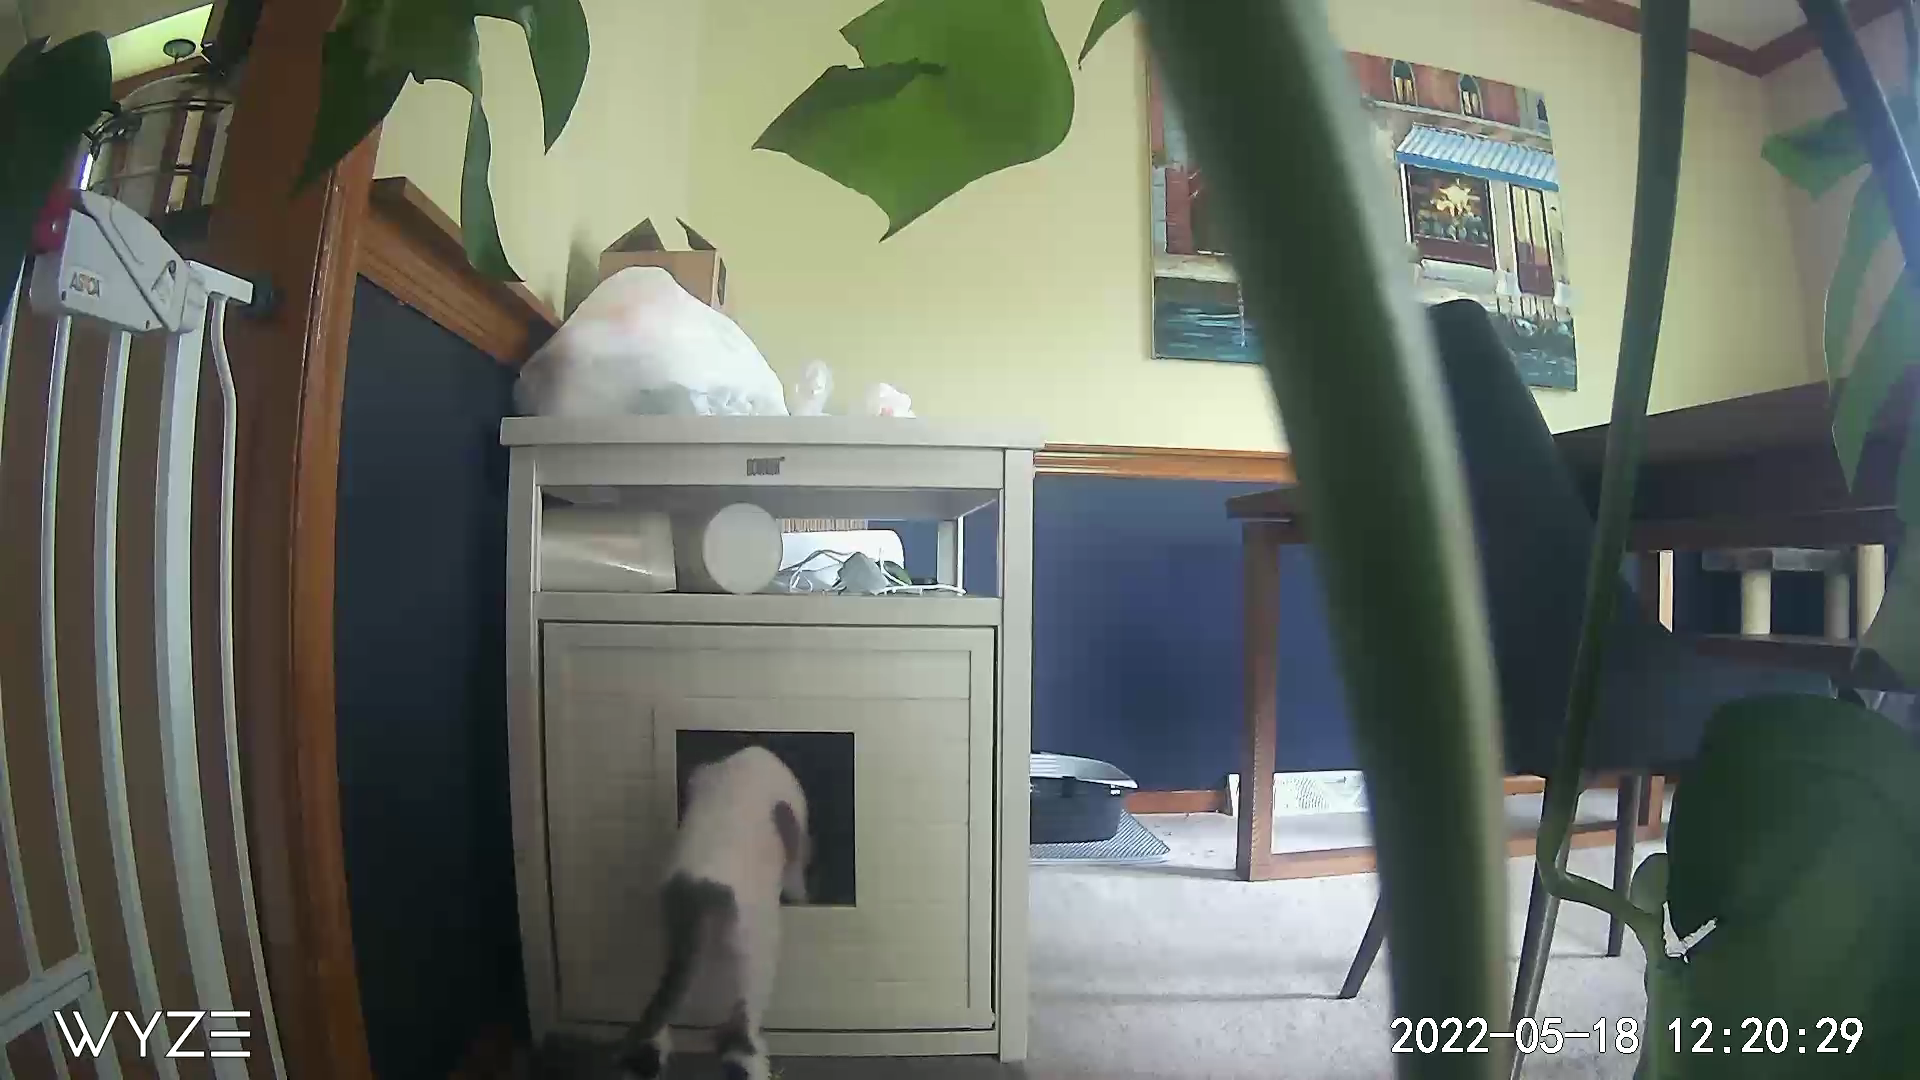maoxin: (607, 727, 825, 1055)
